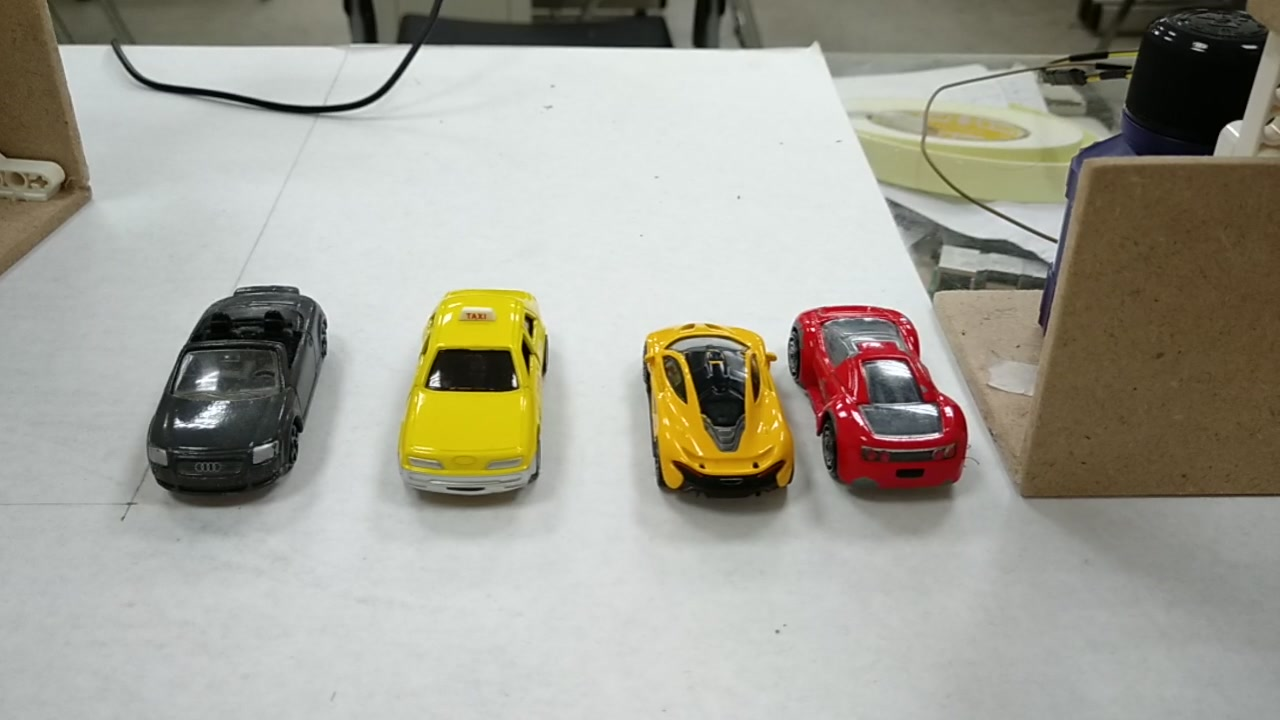car: (146, 293, 336, 501), (797, 303, 972, 493), (397, 288, 549, 495), (643, 323, 793, 500)
